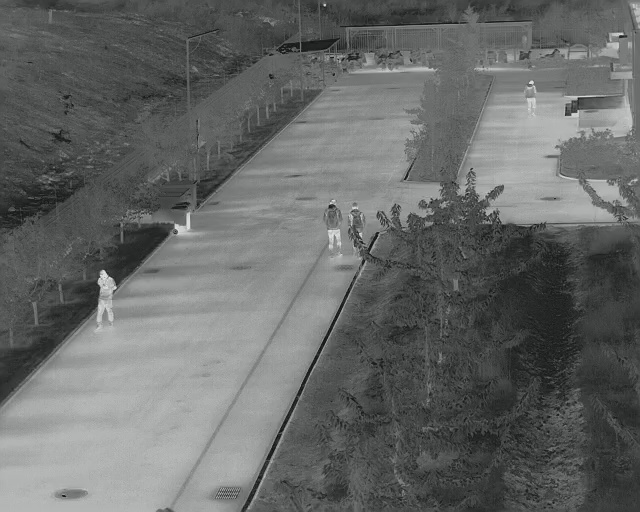person: (94, 269, 117, 332), (324, 198, 343, 257), (349, 201, 367, 237), (524, 78, 538, 116)
